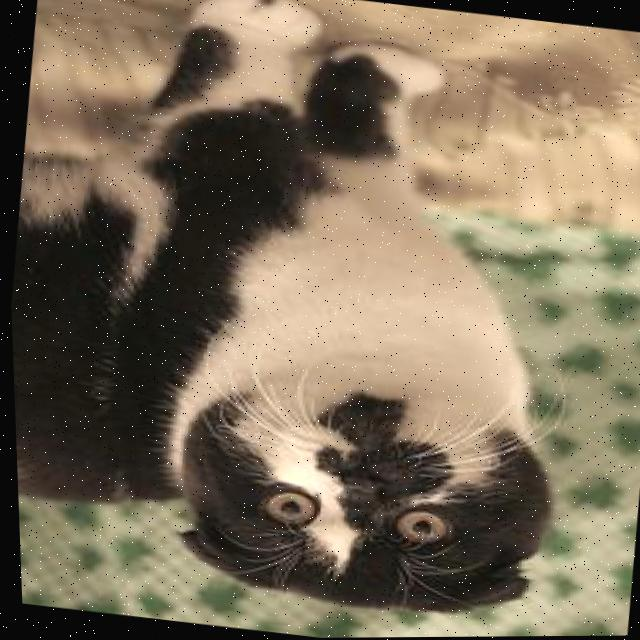Scottish Fold: (0, 0, 627, 640)
